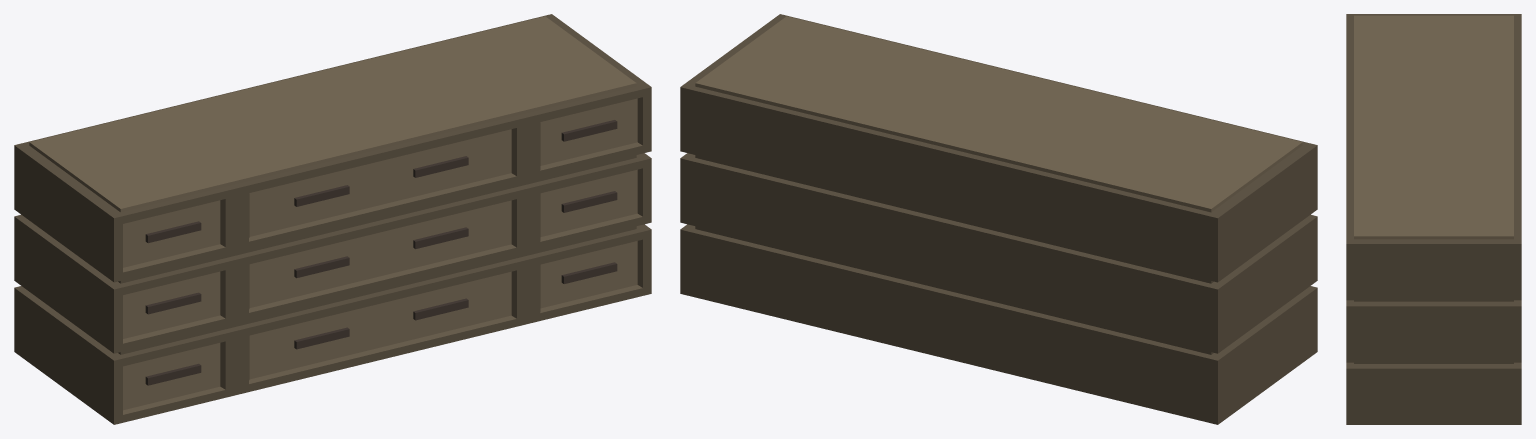
File: Drawer_3.glb
The picture shows the model from 3 angles, left to right: view 1: azimuth 30°, elevation 25°; view 2: azimuth 150°, elevation 25°; view 3: azimuth 270°, elevation 25°; orthographic projection. The views are drawn at different scales.
Parts seen in each view (by area): view 1: Drawer_3; view 2: Drawer_3; view 3: Drawer_3.
Part boxes in pixels (x1,y1,x2,y2): Drawer_3: (14,14,651,424); Drawer_3: (680,14,1317,424); Drawer_3: (1346,14,1521,424).
Bounding box in the file's own units: 4.15 × 1.58 × 1.34.
